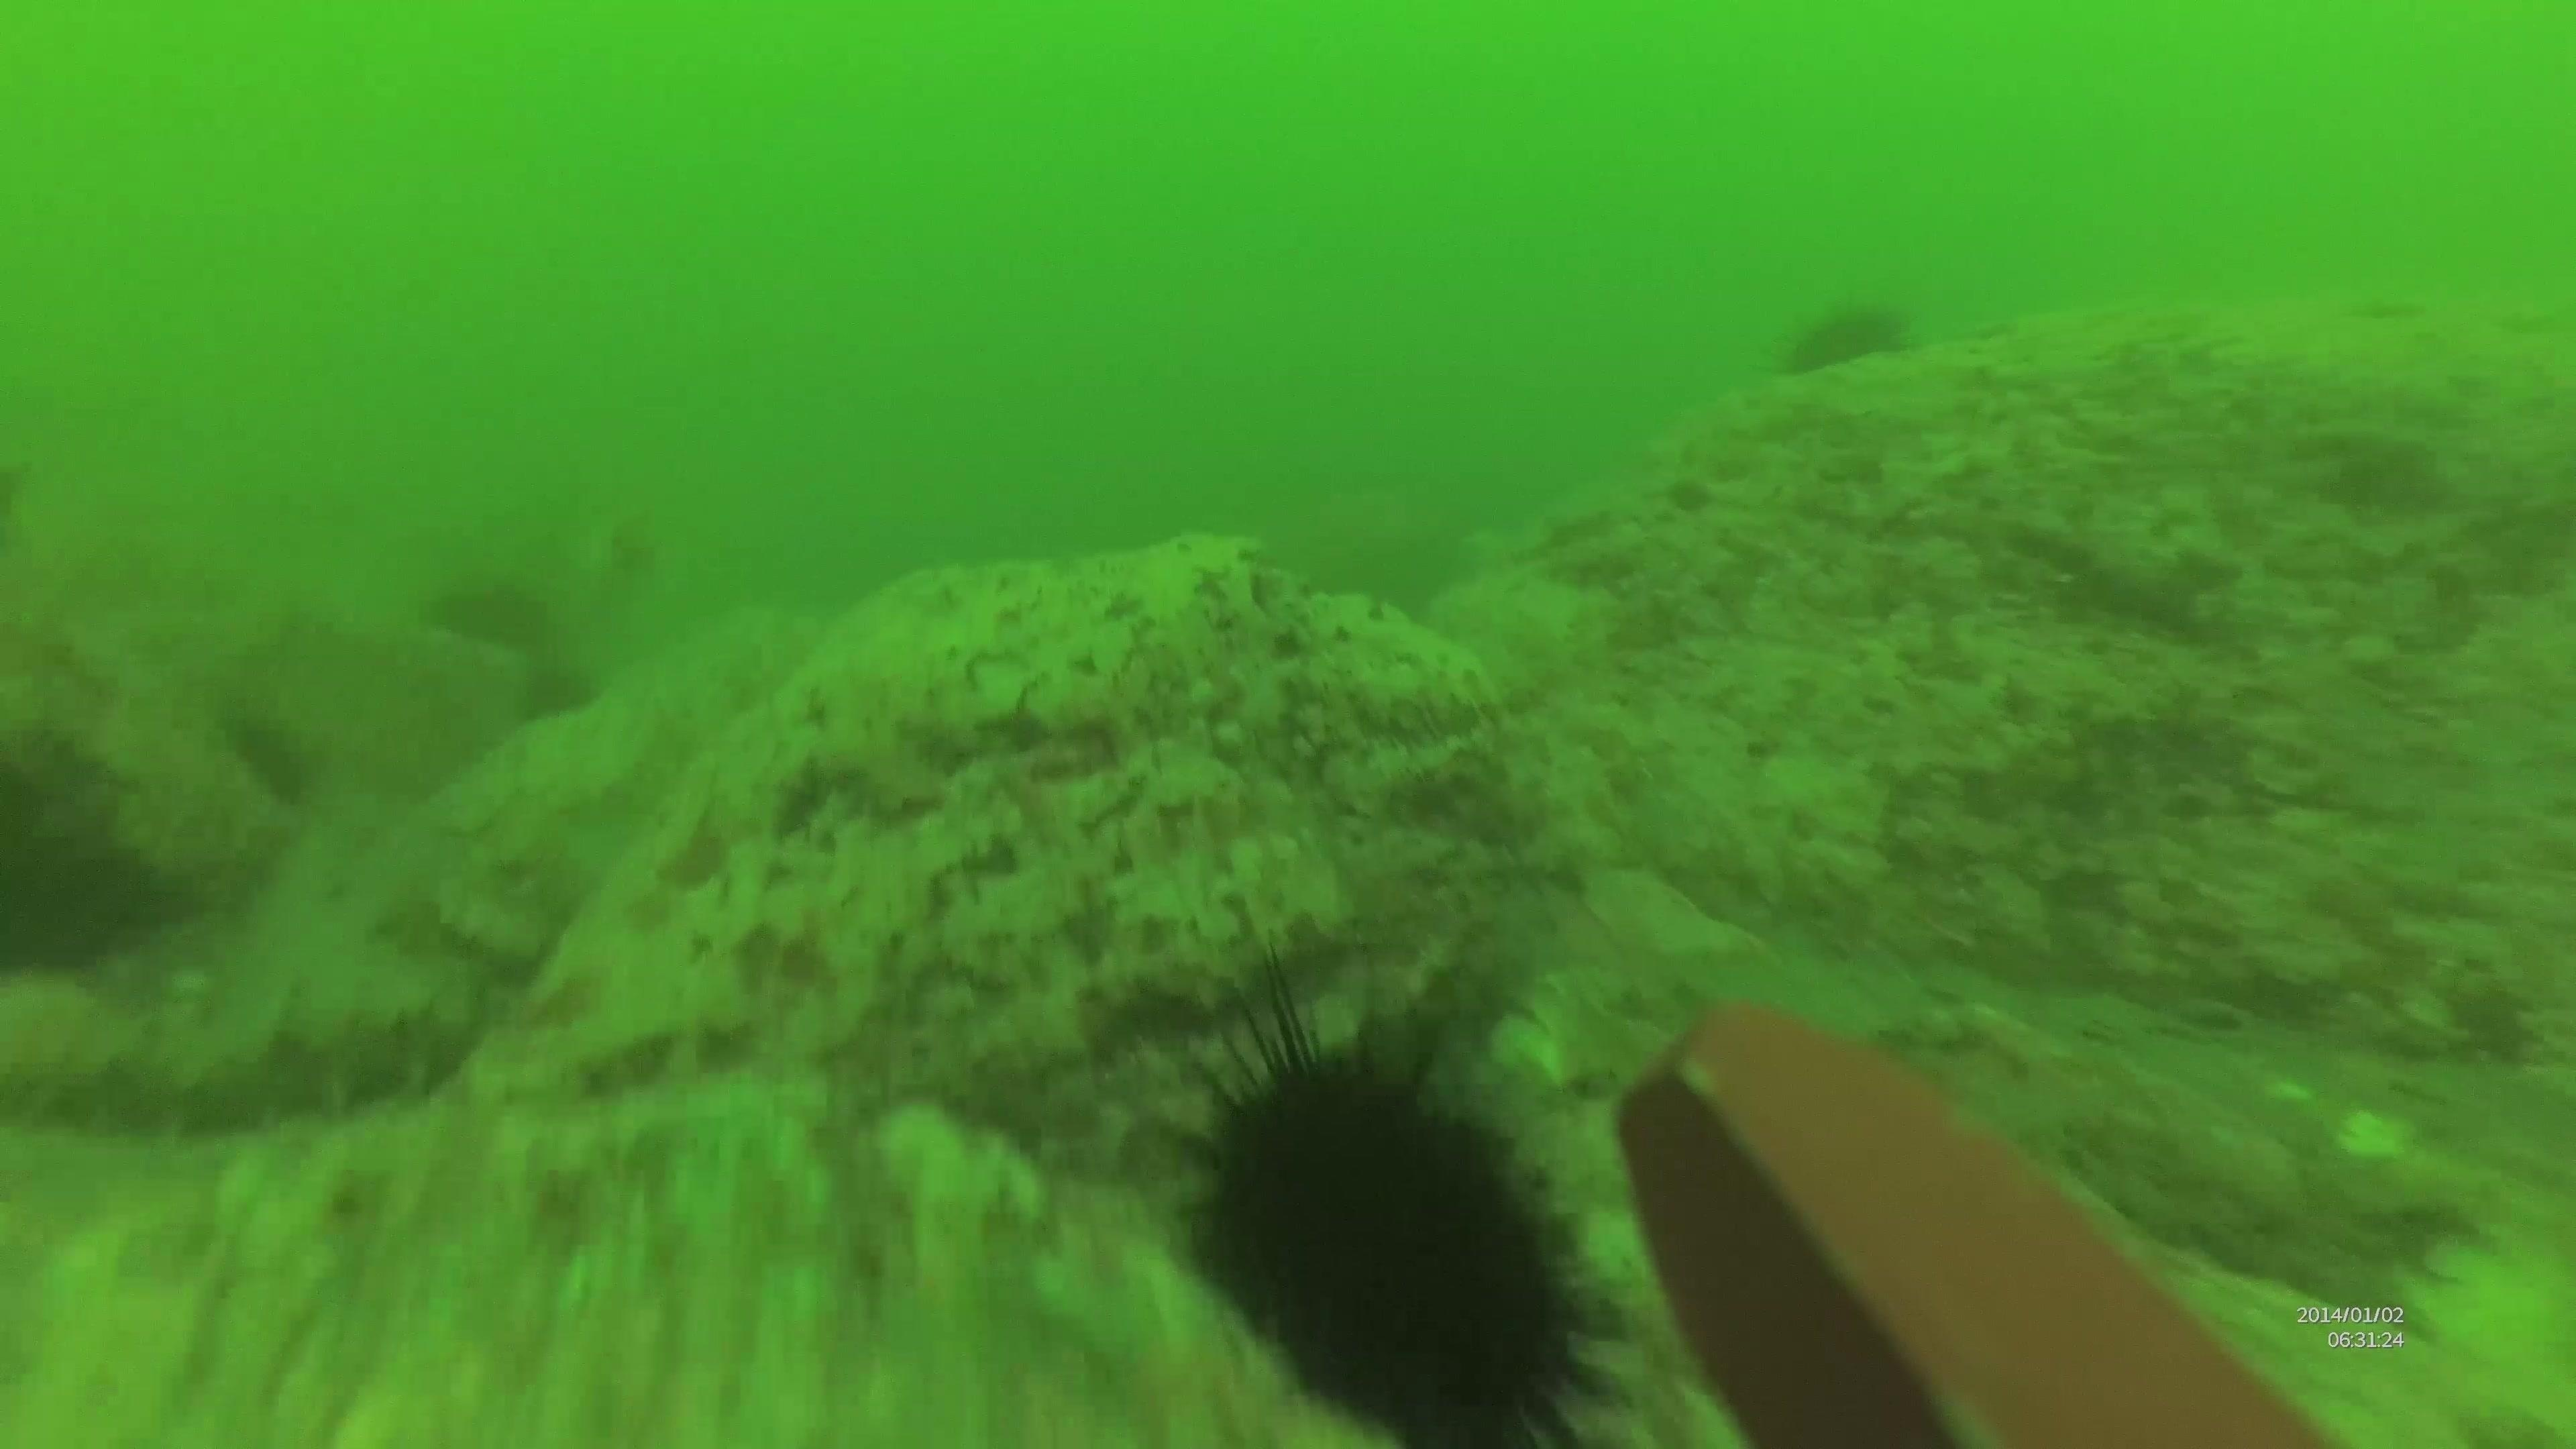echinus: (1152, 984, 1626, 1444), (1769, 288, 1918, 387)
holothurian: (2, 964, 492, 1145)
